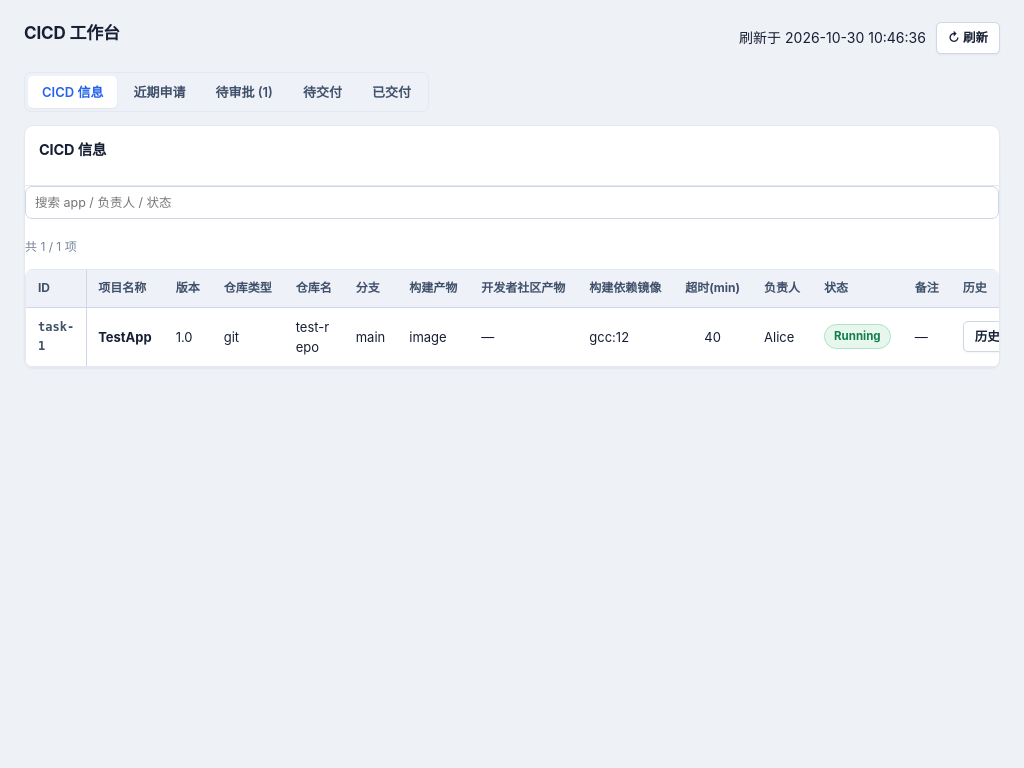
CicdPage › ApproveDialog: shows 本人提交 when submitter equals current user (ruling B self-approve)
This screenshot has width=1024, height=768.
Note: Navigate to 待审批 pane
Click the button "待审批 (1)" at (244, 92), box [201,76,287,108]
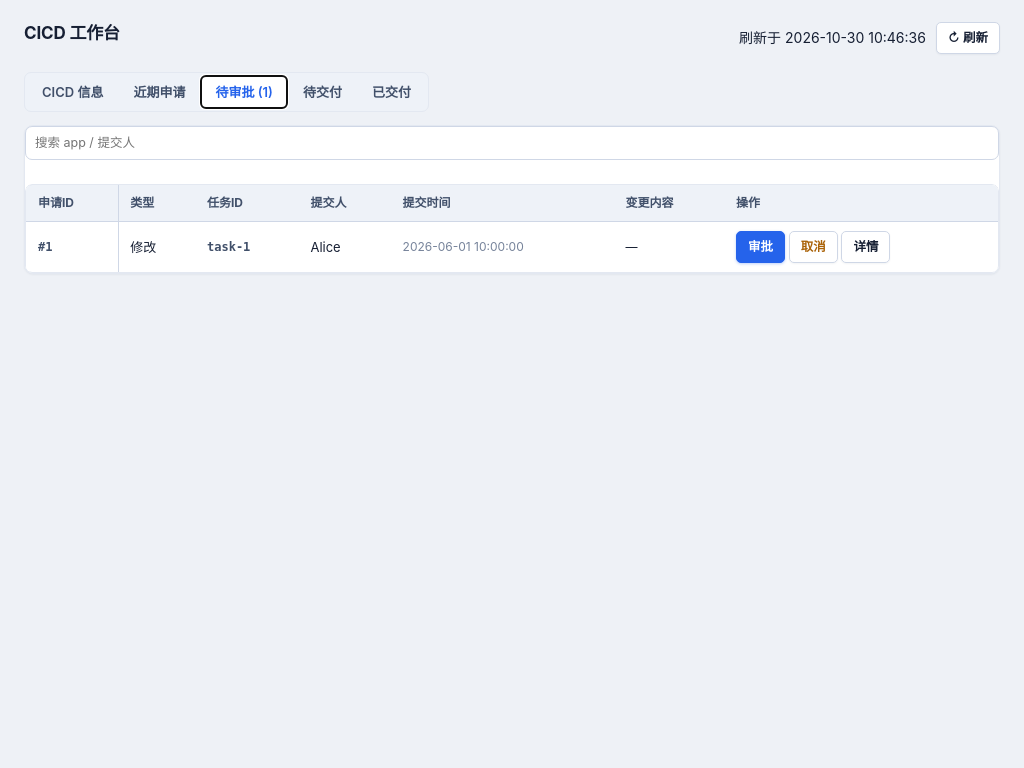
Expected: the button "审批" is shown
Note: Pending request shows with approve button
Click the button "审批" at (761, 247), box [736,232,785,263]
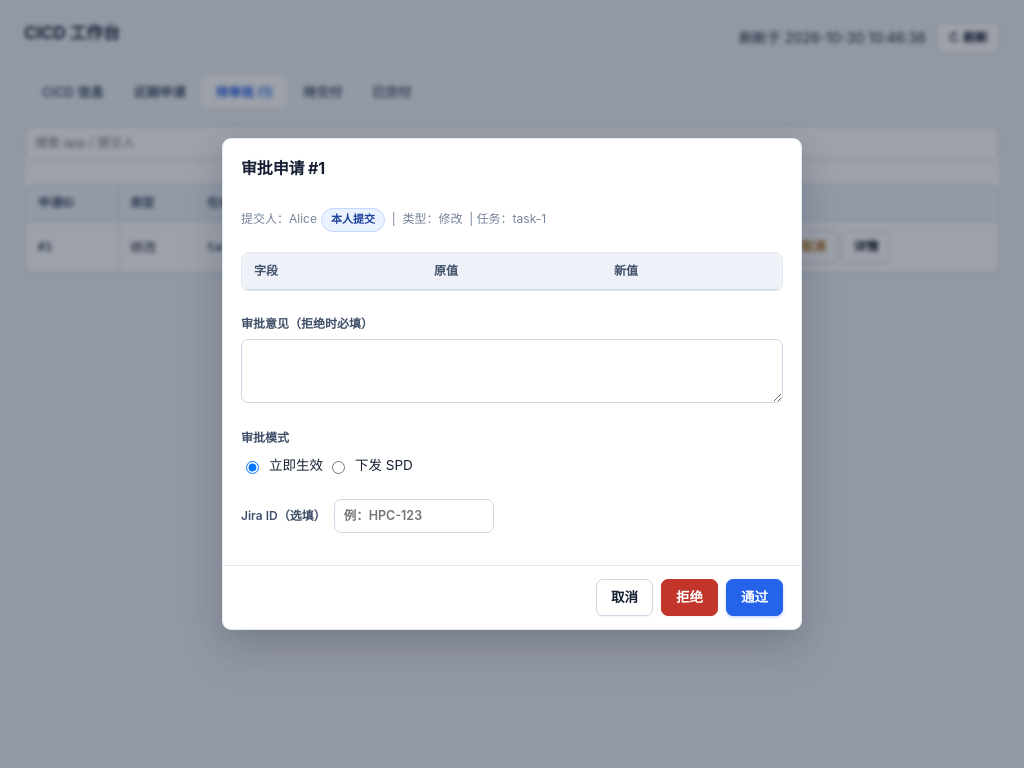
Expected: the text "本人提交" is shown, [321,208,385,232]
